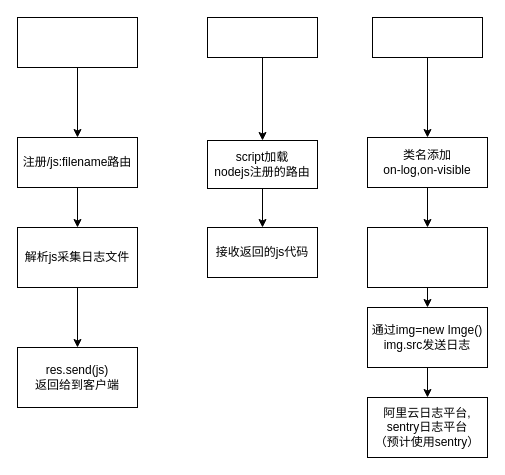
Image size: 505x475. Some labels were removed from this diagram. The shapes that lost their labels are listed below. From the top down, each one's box as (x1, y1, x2, y2) in pixels, then its label:
(16, 16, 138, 68): express程序入口
(206, 16, 318, 58): 客户端
(372, 16, 482, 58): 如何使用
(366, 226, 488, 288): js代码检索到事件
